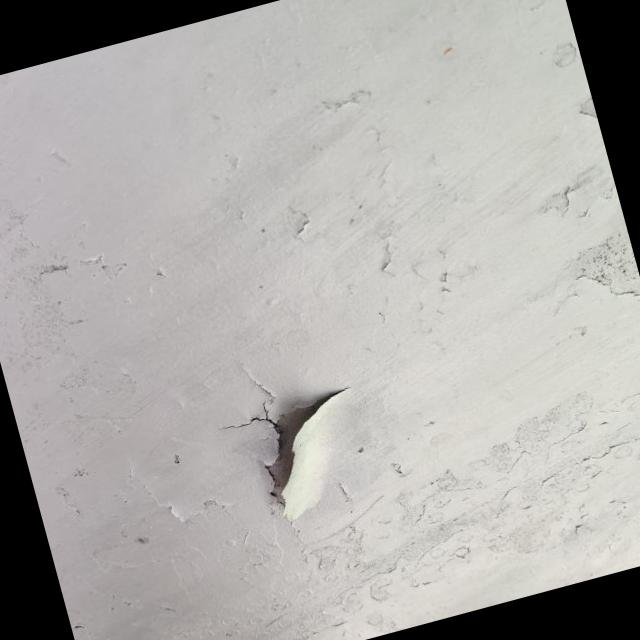Paint-off: (262, 383, 339, 516)
